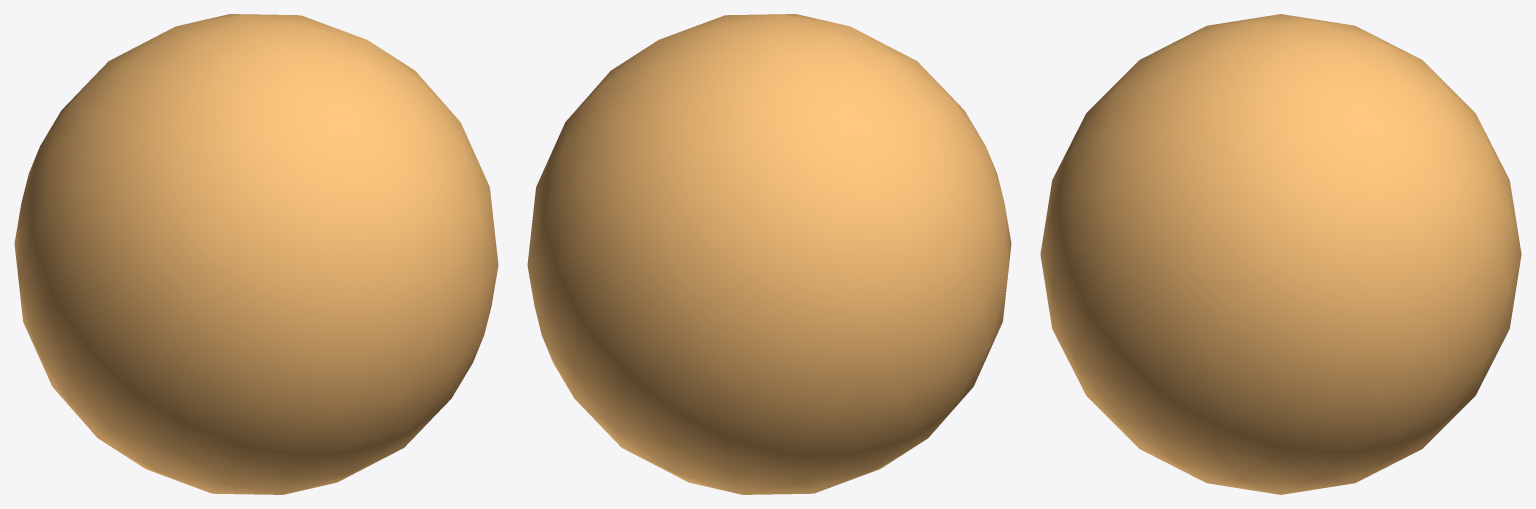
Rendered from MouseShot.fbx.
3 views of the same model, side by side, from view 1: azimuth 30°, elevation 25°; view 2: azimuth 150°, elevation 25°; view 3: azimuth 270°, elevation 25° (orthographic).
Parts seen in each view (by area): view 1: MouseShot; view 2: MouseShot; view 3: MouseShot.
Boxes of the visible parts, box(x1,y1,x2,y2) form: MouseShot: box(14, 14, 498, 494); MouseShot: box(527, 14, 1011, 494); MouseShot: box(1040, 14, 1521, 494).
Size of the model in its own units: 200 by 200 by 200.
